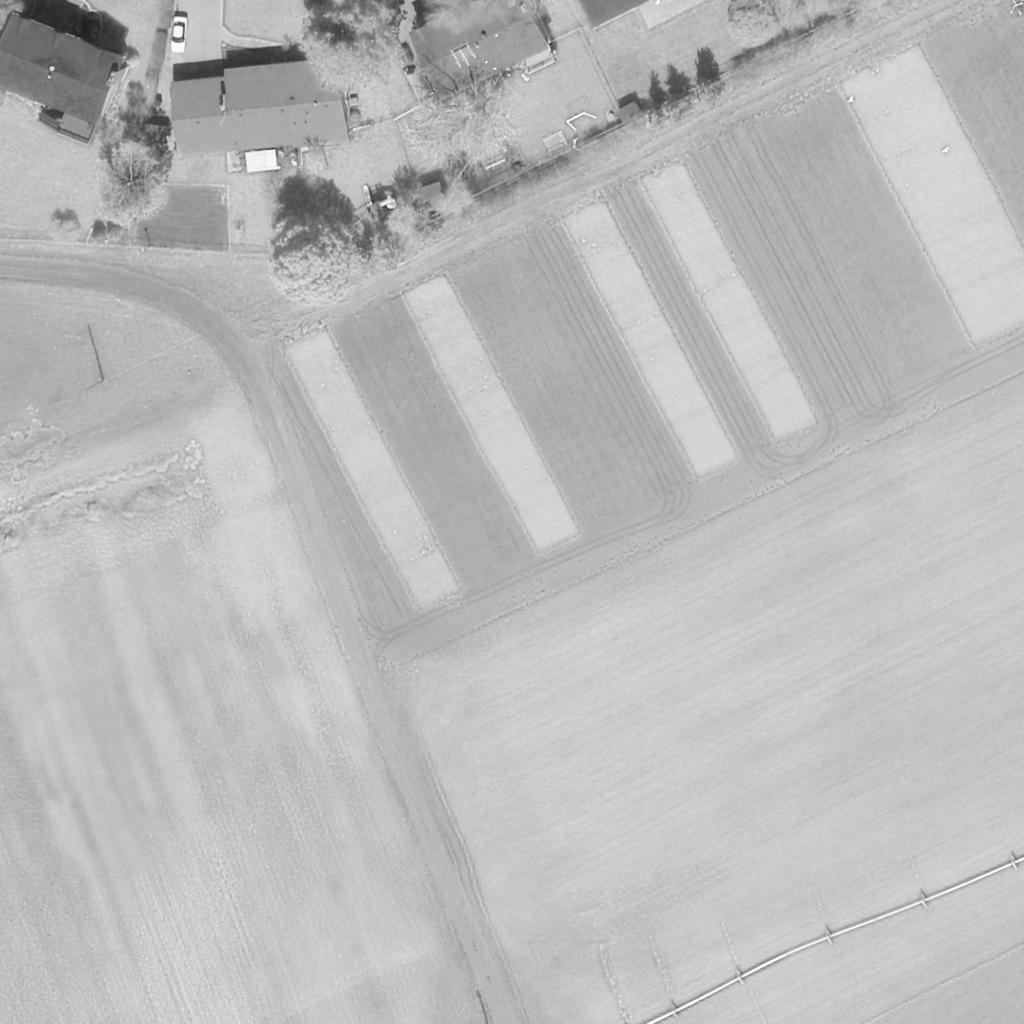vehicle: (169, 16, 189, 54)
